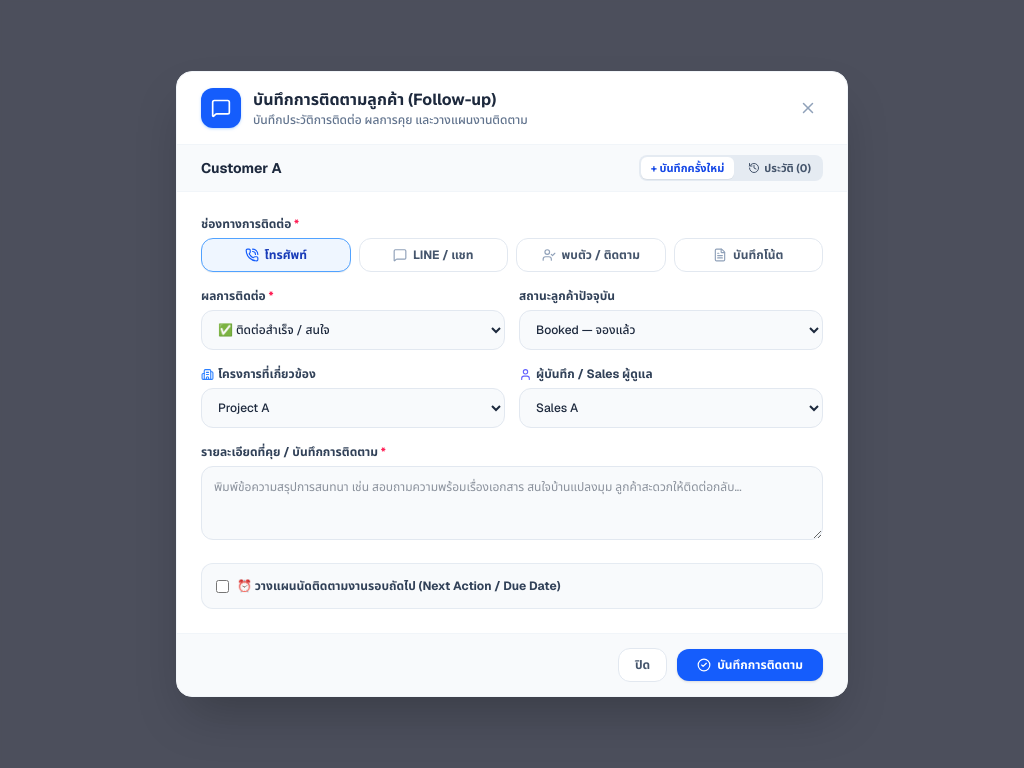
it: contact activities preserve the deal and truthful save feedback › does not update or close after an activity insertion resolves with an error
Replace the text in the text box with placeholder "พิมพ์ข้อความสรุปการสนทนา" with "called about handover" at (512, 503), box x1=201 y1=466 x2=823 y2=540
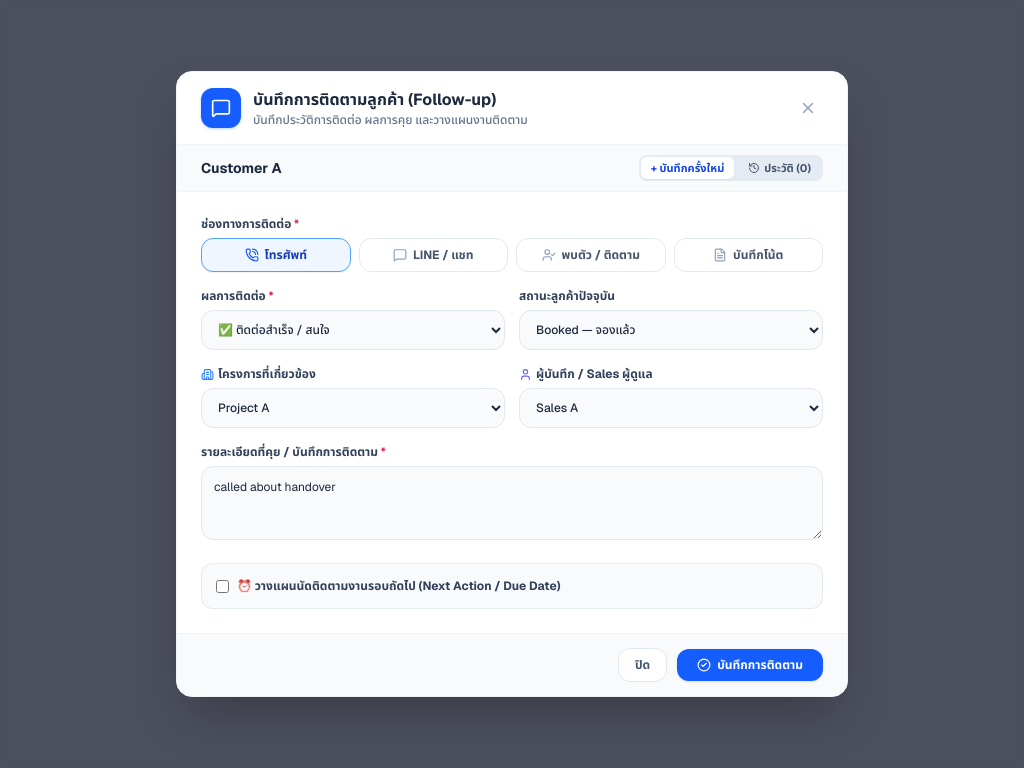
Click the button "บันทึกการติดตาม" at (750, 665), box x1=677 y1=649 x2=823 y2=681
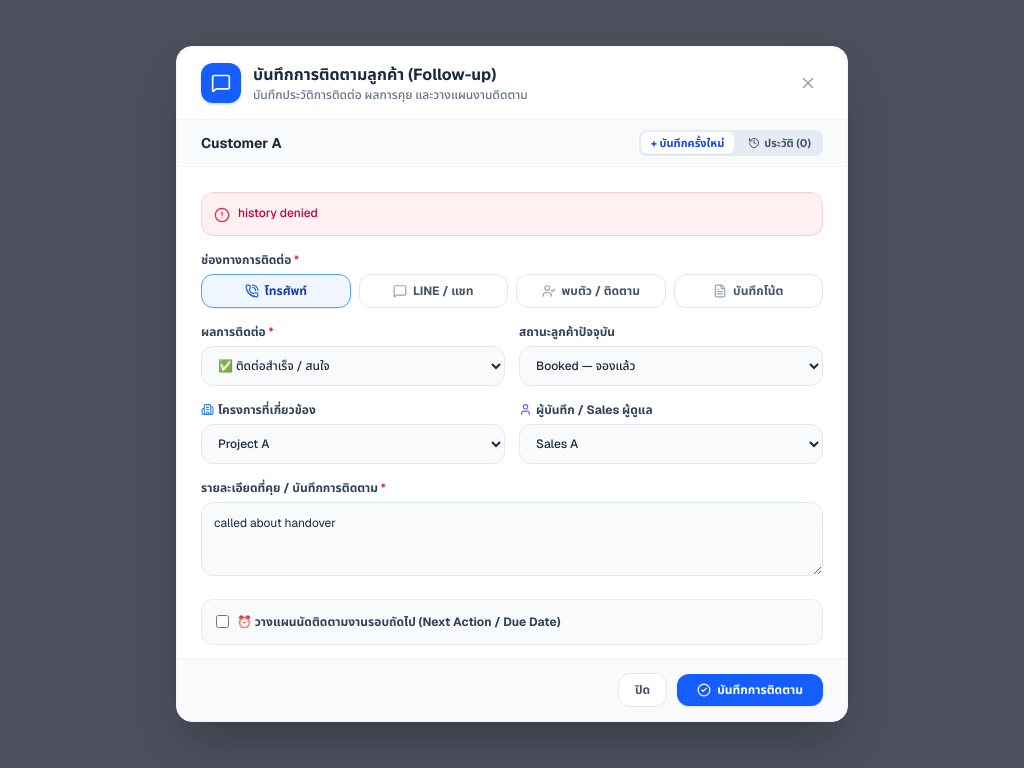
Expected: the text "history denied" is shown, x1=238 y1=205 x2=318 y2=221
